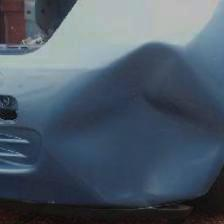bumper_dent: (55, 37, 223, 191)
